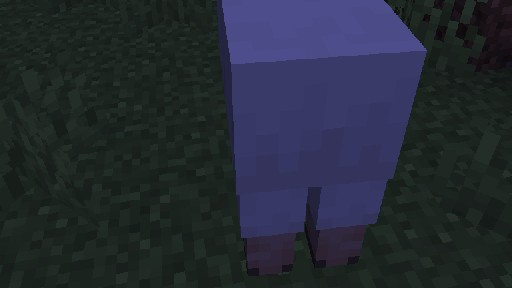sheep: (213, 0, 427, 276)
